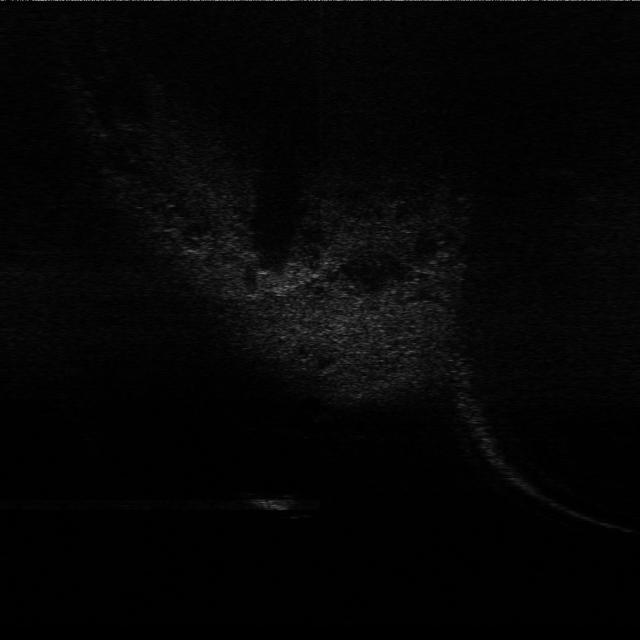square cage: (247, 480, 306, 520)
